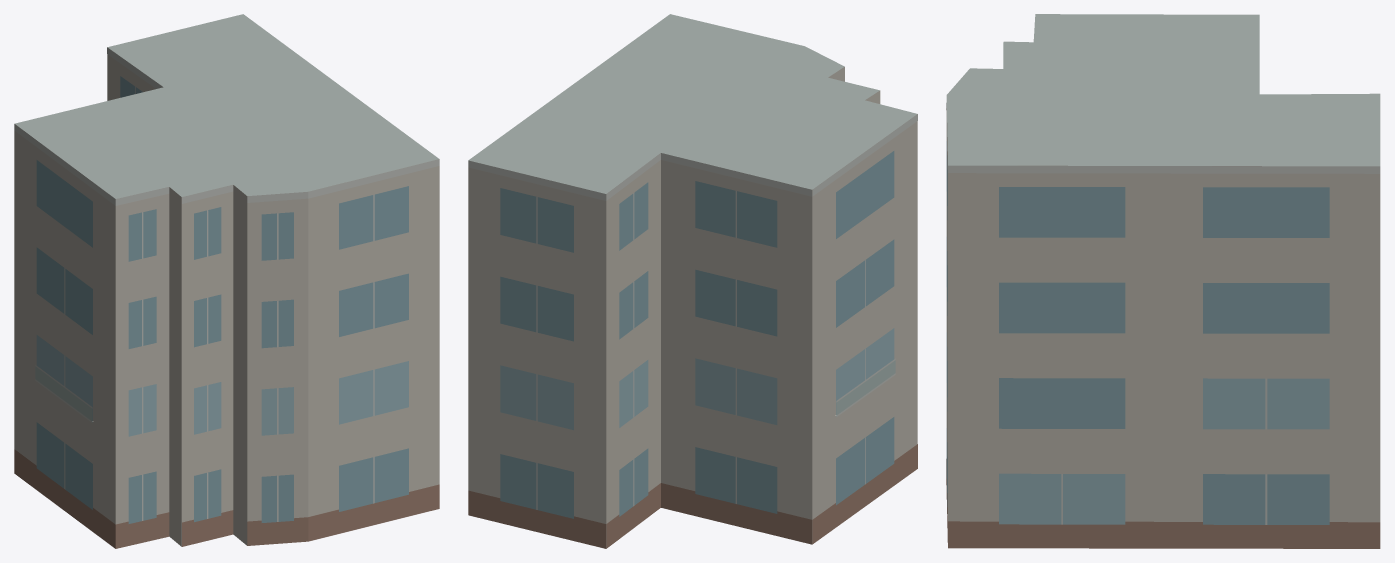
File: survey-upis-32460696.glb
3 views of the same model, side by side, from view 1: azimuth 30°, elevation 25°; view 2: azimuth 150°, elevation 25°; view 3: azimuth 270°, elevation 25° (orthographic). The views are drawn at different scales.
Visible parts, largest first — view 1: survey-upis-32460696.tmp; view 2: survey-upis-32460696.tmp; view 3: survey-upis-32460696.tmp.
Boxes of the visible parts, x1,y1,x2,y2 form: survey-upis-32460696.tmp: (14, 14, 439, 548); survey-upis-32460696.tmp: (468, 14, 917, 548); survey-upis-32460696.tmp: (946, 14, 1380, 548).
Bounding box in the file's own units: 10.62 × 12.4 × 12.76.
